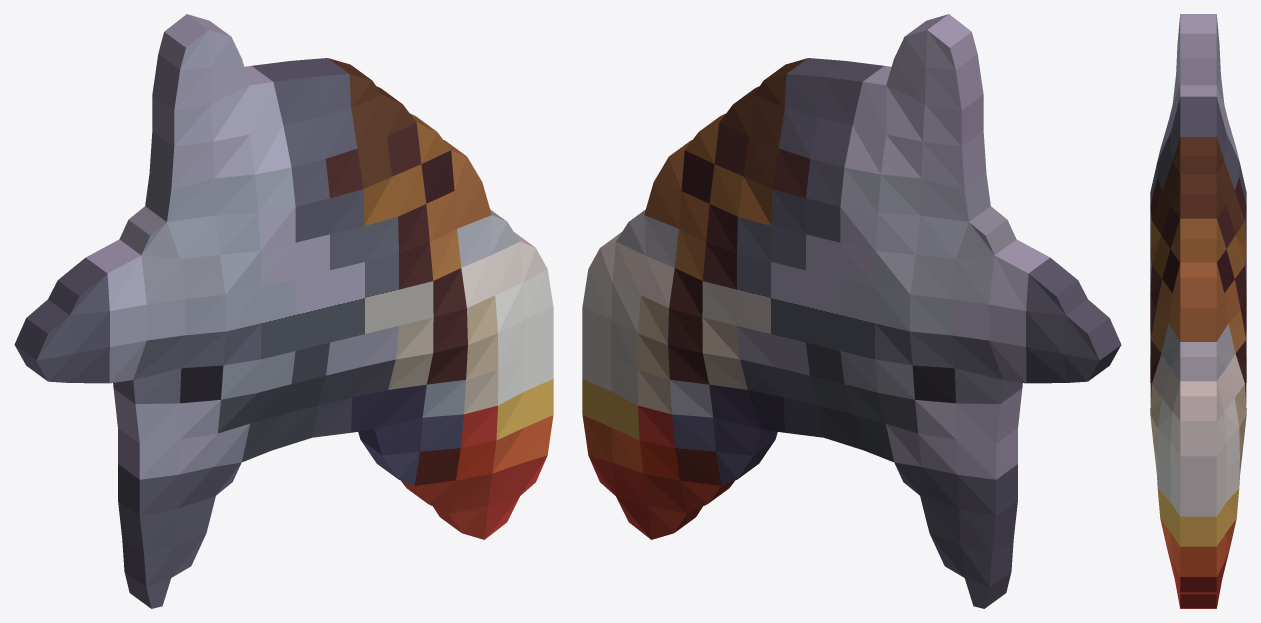
File: spider_web.glb
3 renders of one model, left to right at view 1: azimuth 30°, elevation 25°; view 2: azimuth 150°, elevation 25°; view 3: azimuth 270°, elevation 25°, orthographic. The views are drawn at different scales.
Parts seen in each view (by area): view 1: spider_web; view 2: spider_web; view 3: spider_web.
Boxes of the visible parts, <box> form: spider_web: <box>14,14,553,608</box>; spider_web: <box>582,14,1121,608</box>; spider_web: <box>1150,14,1246,608</box>.
Bounding box in the file's own units: 0.9375 × 1 × 0.1813.
1 material, 1 textured.
